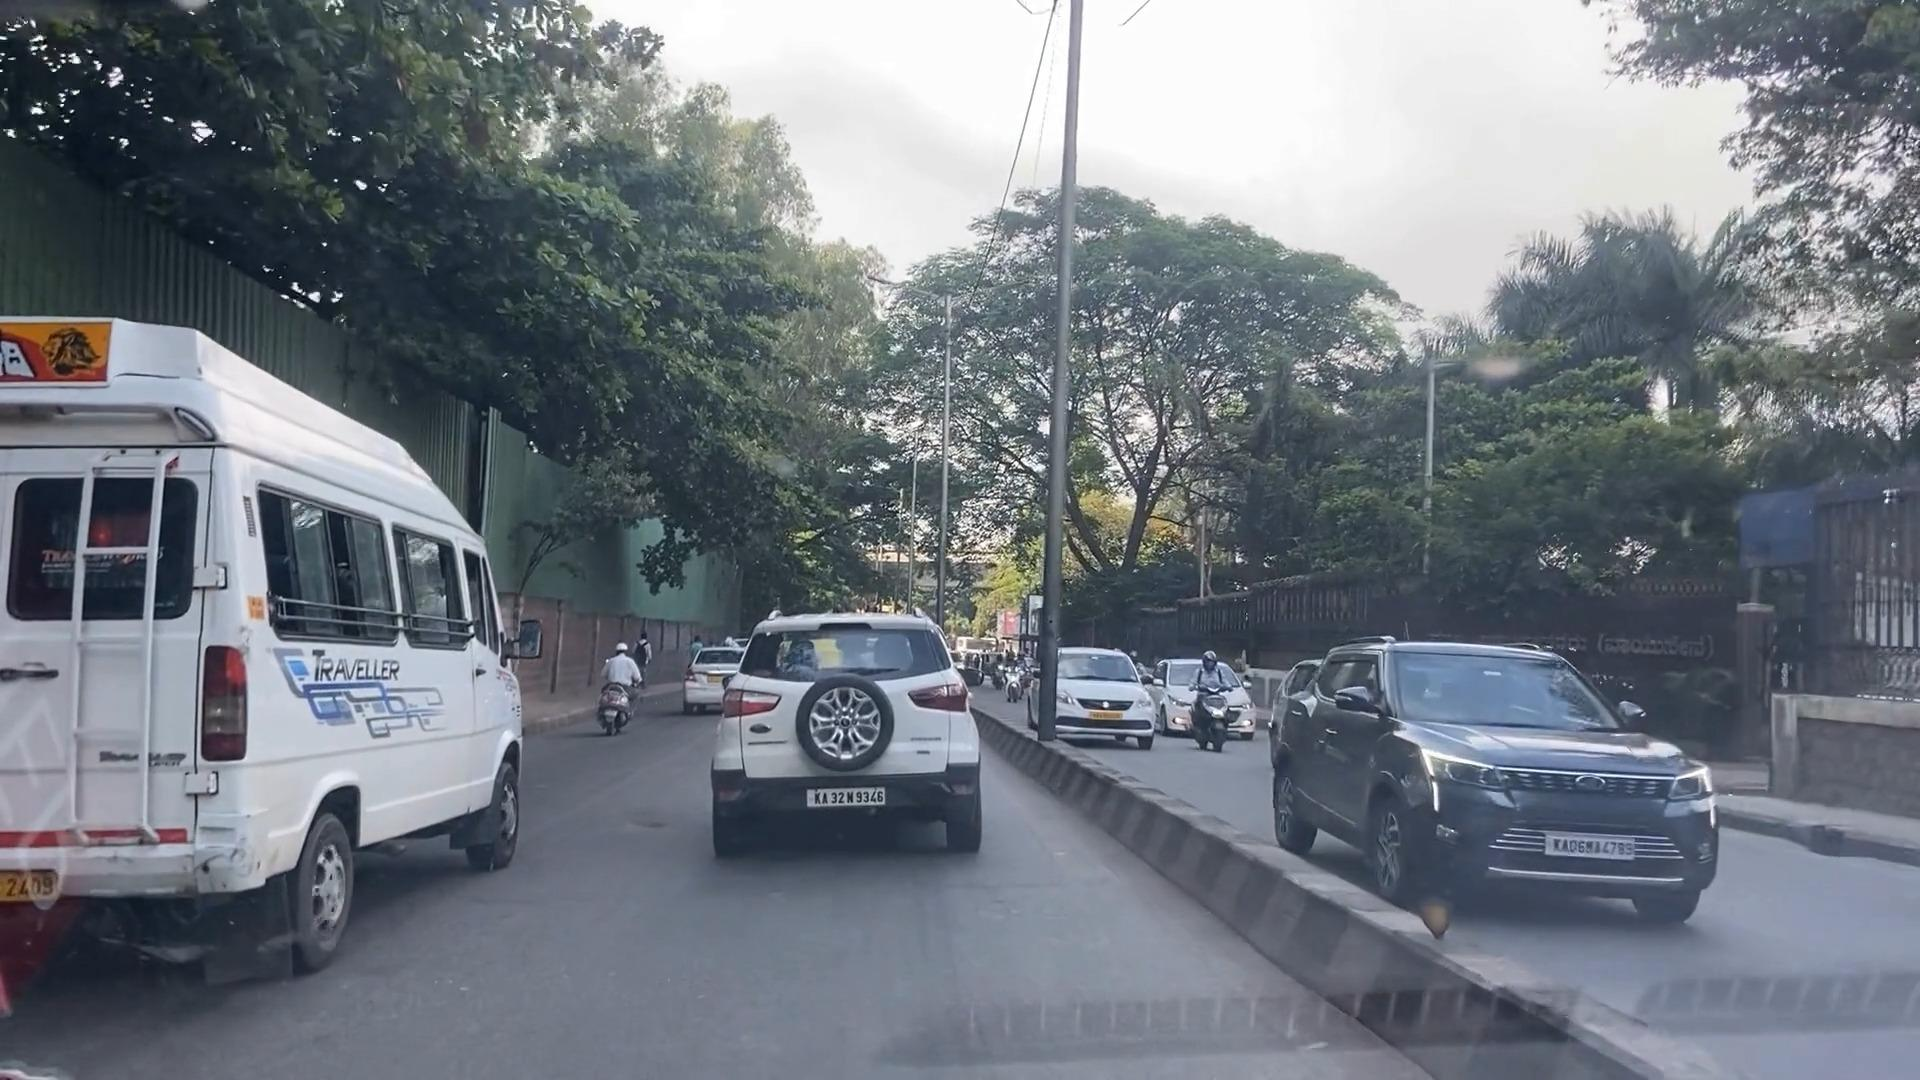HMV: (13, 315, 524, 939)
LMV: (691, 628, 1000, 877)
